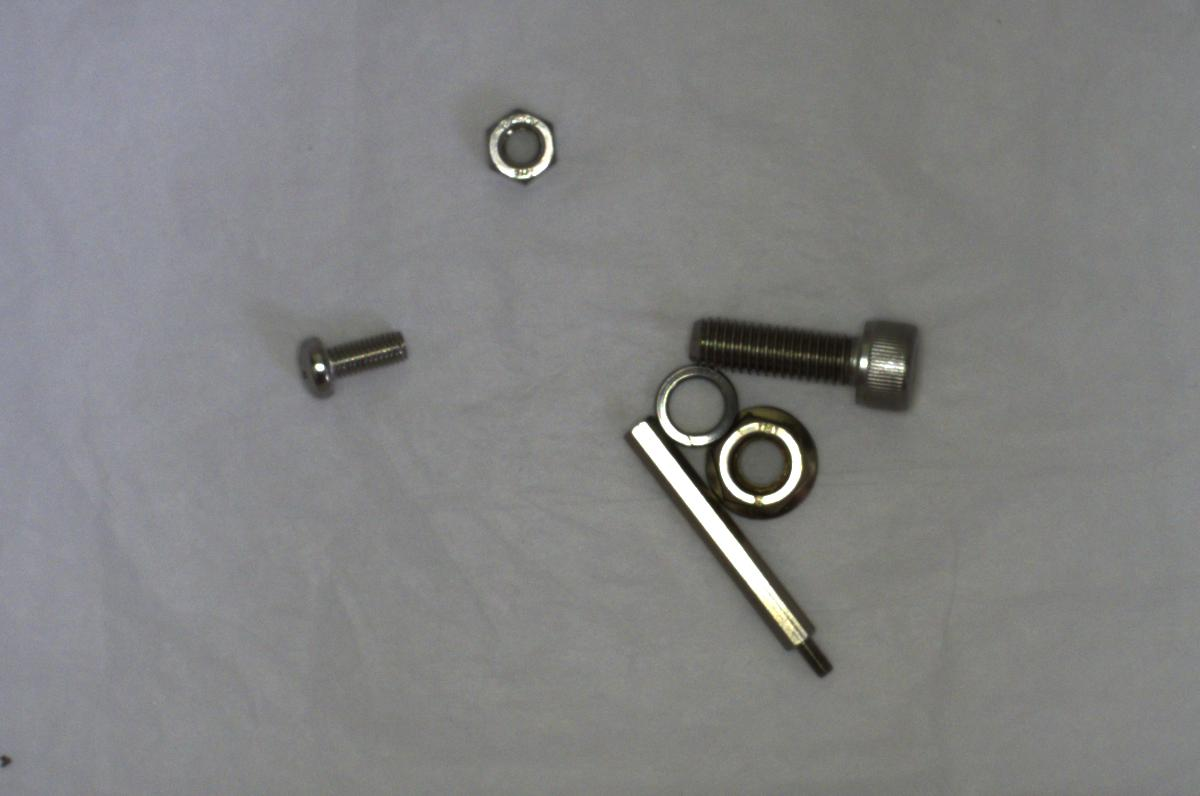Flange nut: (698, 400, 824, 521)
Hexagon nut: (481, 102, 558, 185)
Hexagon screw: (687, 300, 931, 413)
Hexagonal steel column: (611, 415, 838, 683)
Round head screw: (275, 316, 422, 400)
Spring washer: (637, 358, 739, 447)
